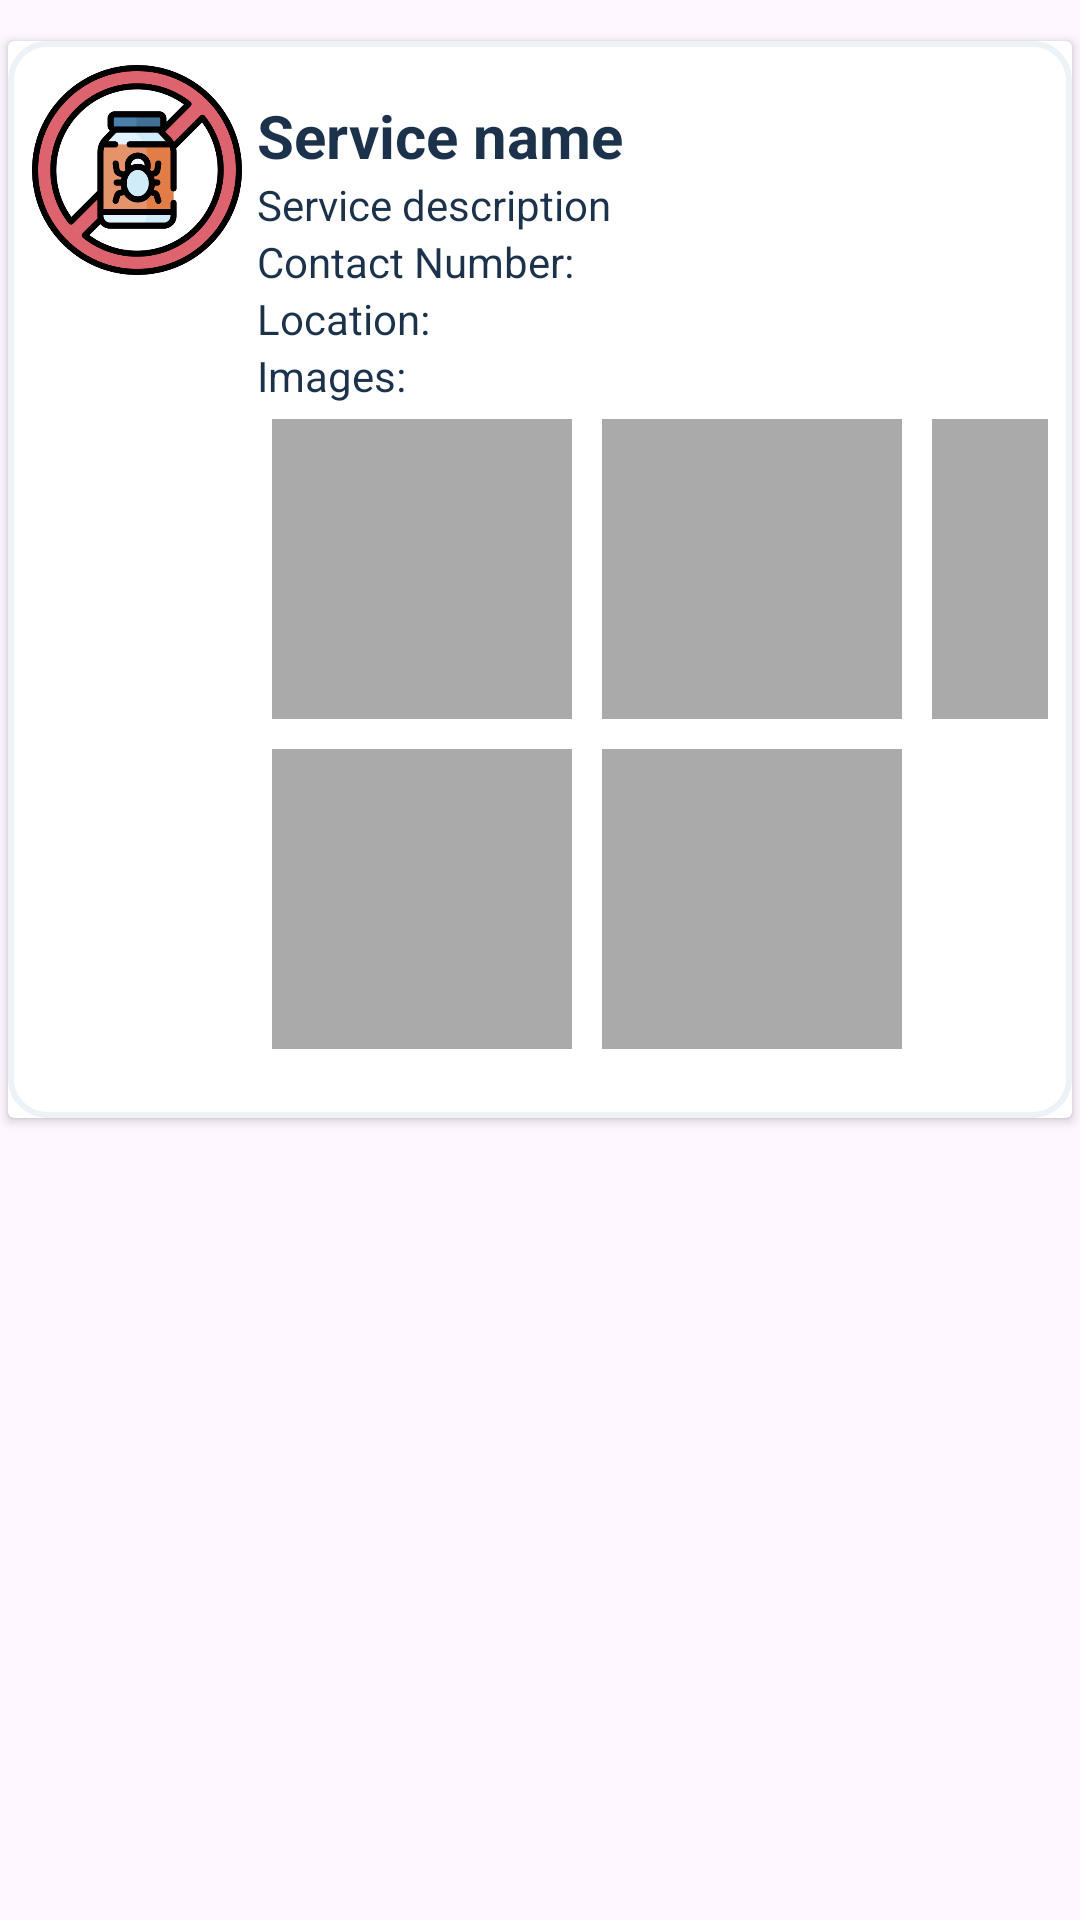

Locate icon controls on the screen. Image size 1080 × 1920, boxes as box(x1, y1, x2, y2).
pesticide service: box(32, 65, 242, 275)
